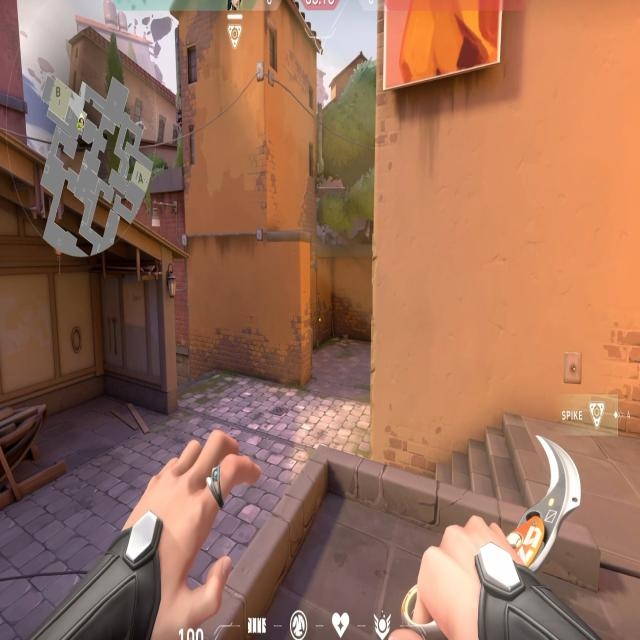B_Garage_Right: (82, 250, 179, 420)
